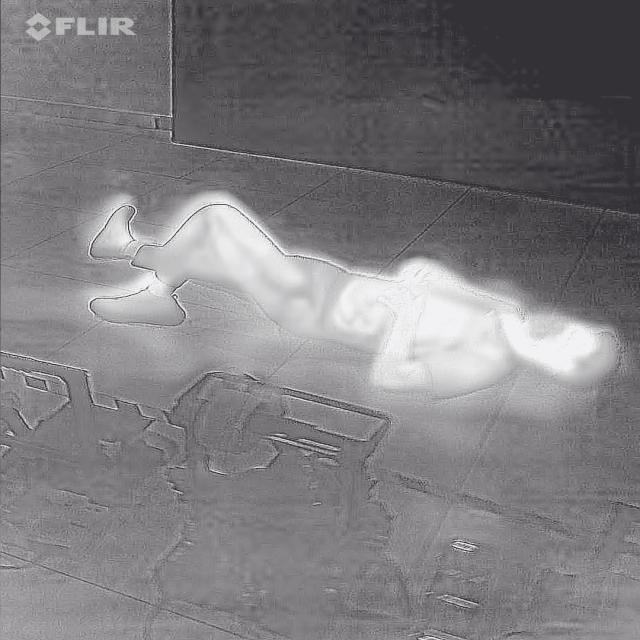Victim: (66, 184, 627, 411)
